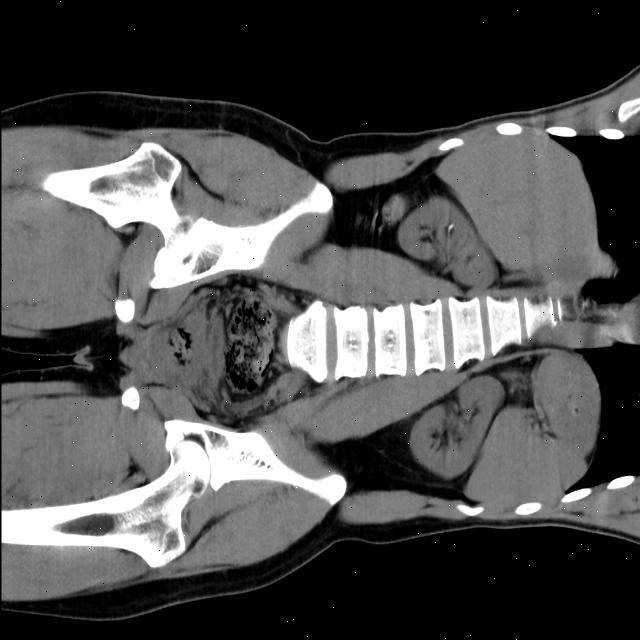kidneystone: (448, 222, 454, 230)
